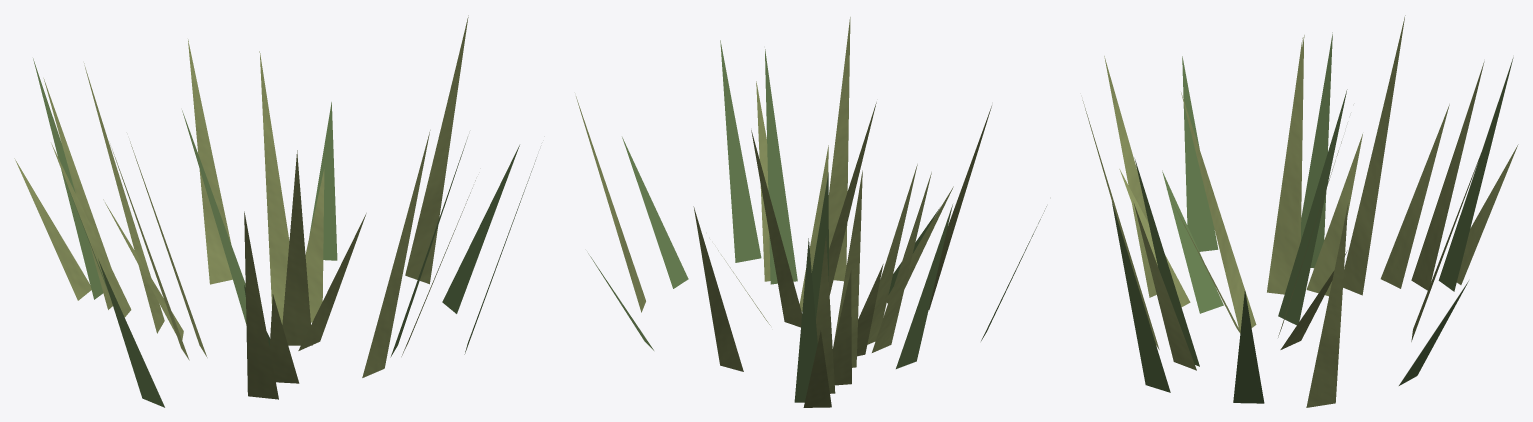
File: grass_clump_02.glb
3 renders of one model, left to right at view 1: azimuth 30°, elevation 25°; view 2: azimuth 150°, elevation 25°; view 3: azimuth 270°, elevation 25°, orthographic. The views are drawn at different scales.
Parts seen in each view (by area): view 1: grass_clump_02; view 2: grass_clump_02; view 3: grass_clump_02.
Boxes of the visible parts, x1=… form: grass_clump_02: x1=14, y1=15, x2=536, y2=407; grass_clump_02: x1=576, y1=17, x2=1046, y2=407; grass_clump_02: x1=1082, y1=15, x2=1518, y2=407.
Bounding box in the file's own units: 0.7217 × 0.4059 × 0.6164.
2 materials, 1 textured.
